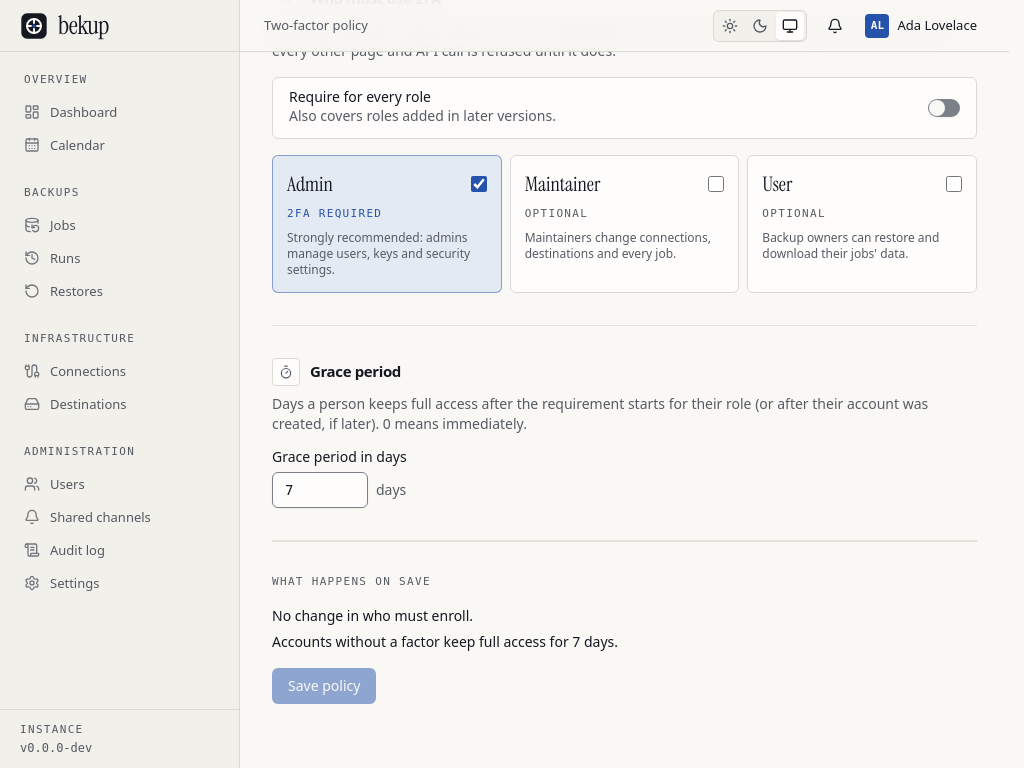
2FA policy page › validates the grace period before saving
(page scrolled)
Clear the field labelled "Grace period in days" at (320, 490), box x1=272 y1=472 x2=368 y2=508
(page scrolled)
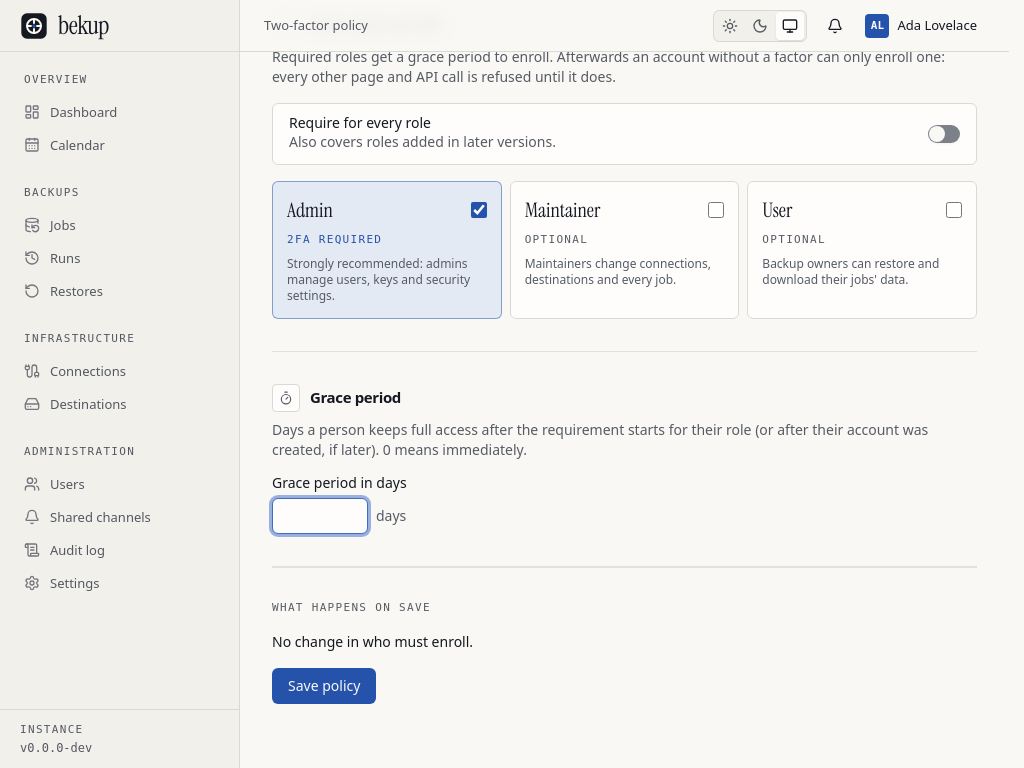
Type "120" into the field labelled "Grace period in days" at (320, 516), box x1=272 y1=498 x2=368 y2=534
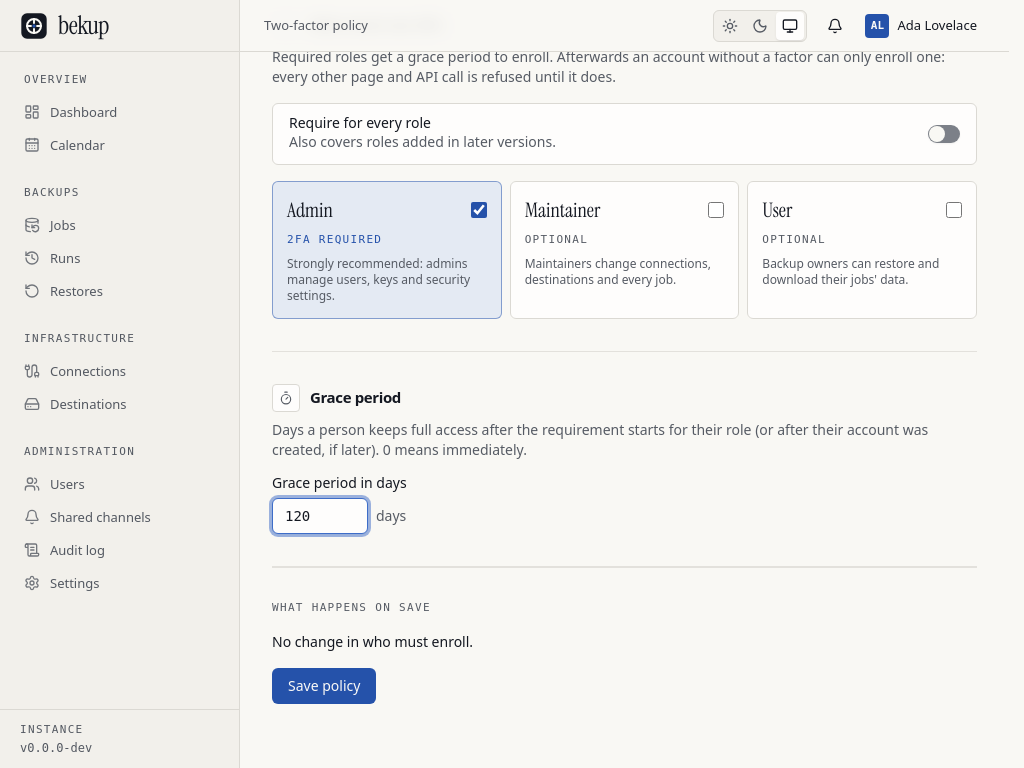
Click the button "Save policy" at (324, 686), box x1=272 y1=668 x2=376 y2=704
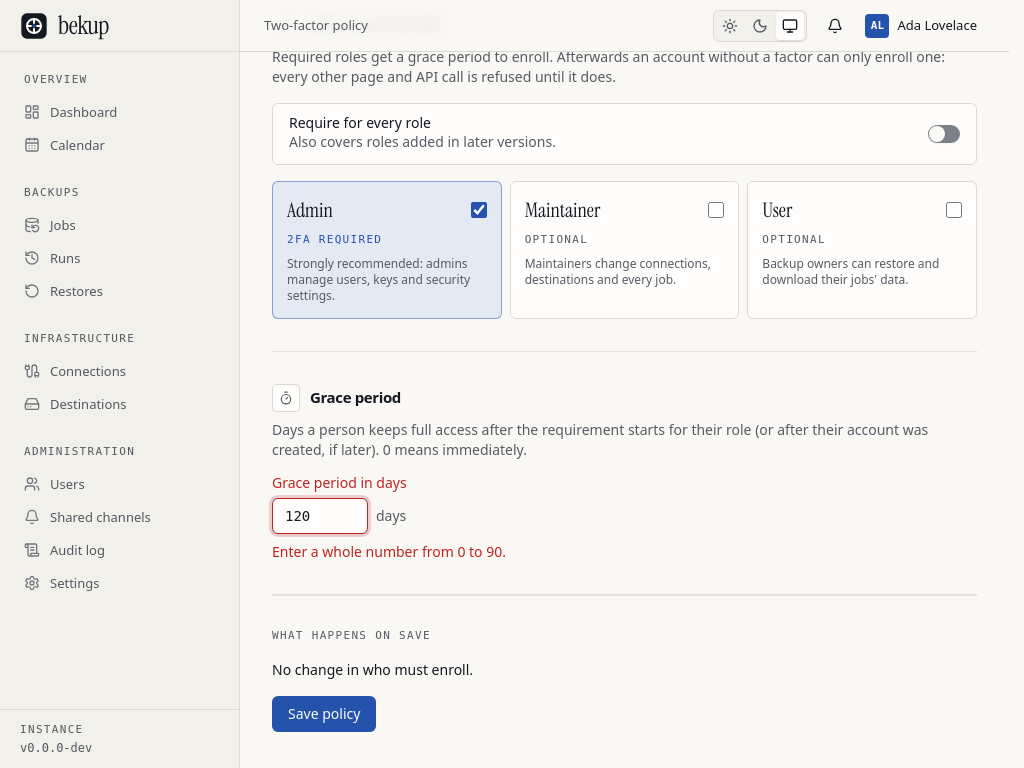
expect the text "Enter a whole number from 0 to 90." is shown: met, box x1=272 y1=542 x2=506 y2=561
